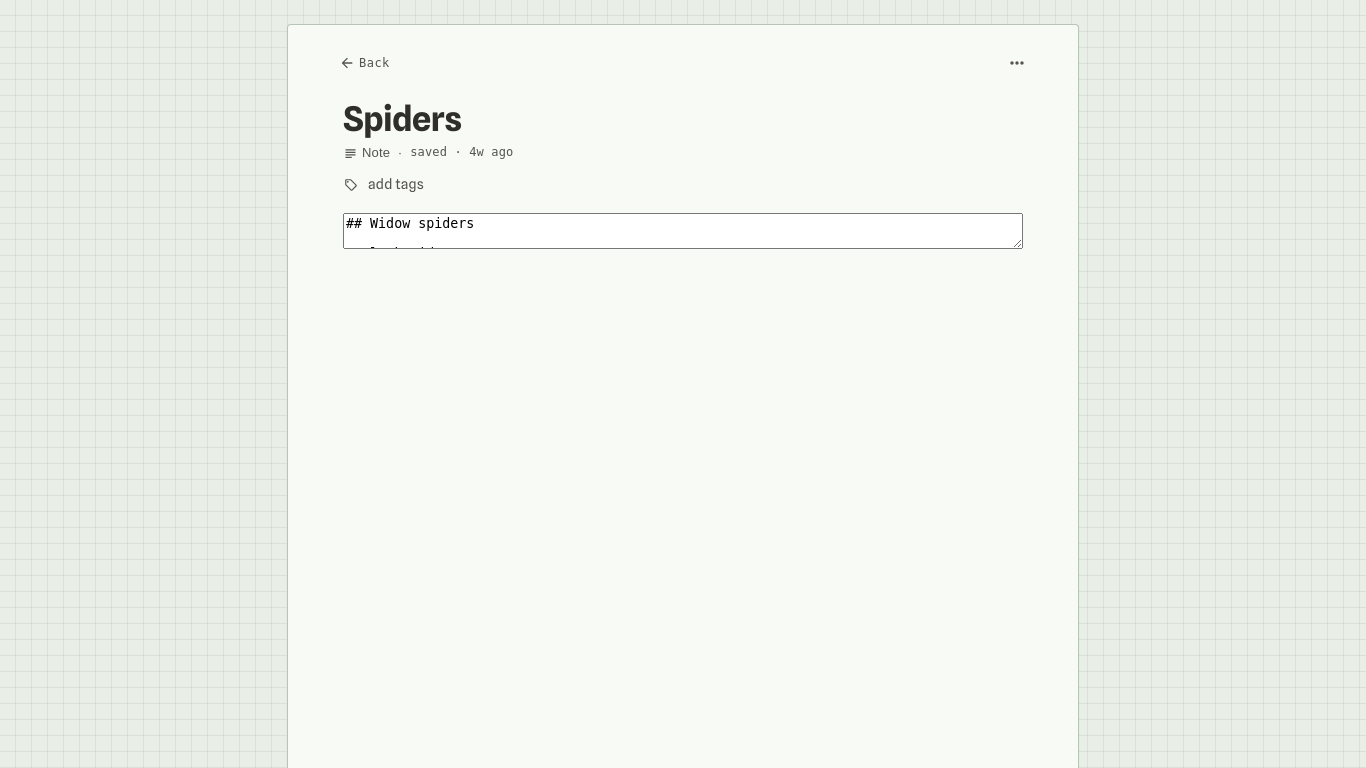
it: Fold in, from the editor › is in the ⋯ menu of a saved Markdown note
The image size is (1366, 768).
Click the button named "More note actions" at (1017, 63), box [1001,47,1033,79]
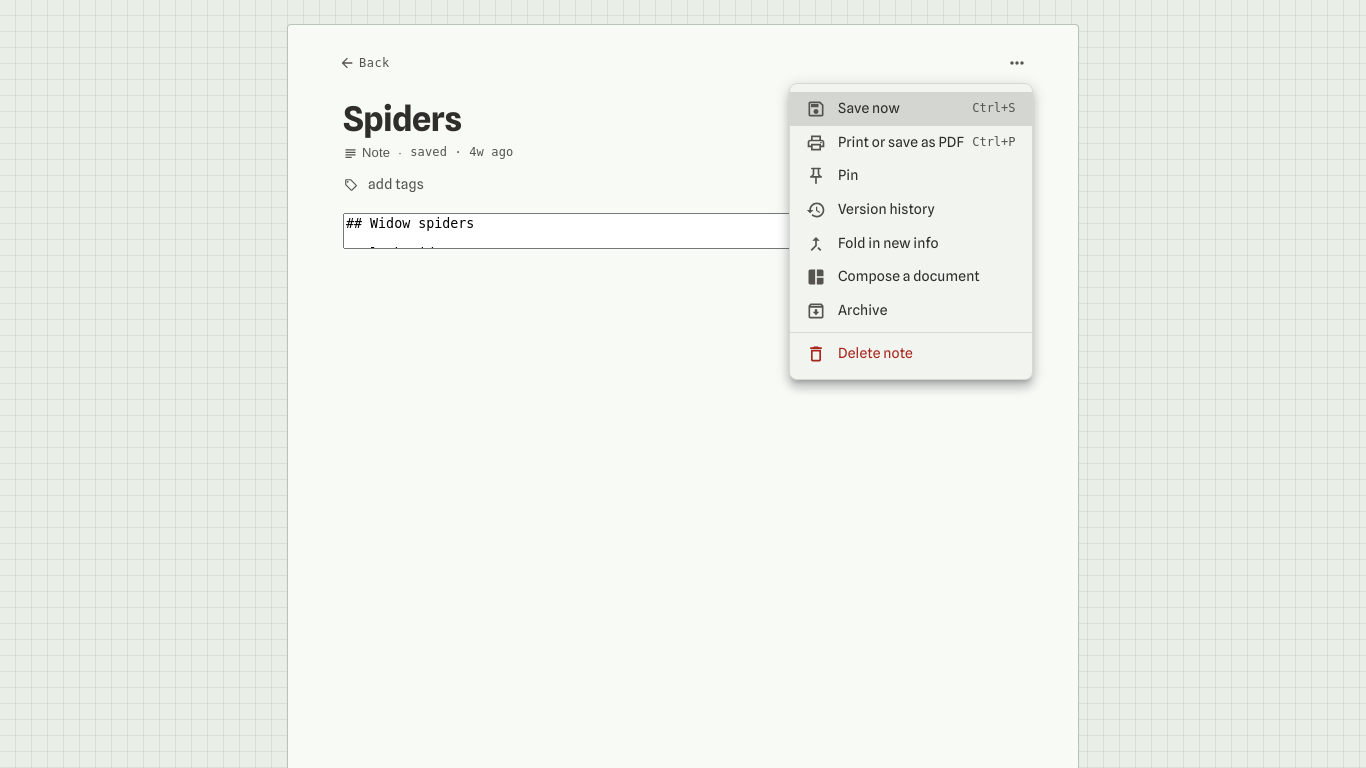
Now the menu item "Fold in new info" is shown, box [806,234,939,254]
